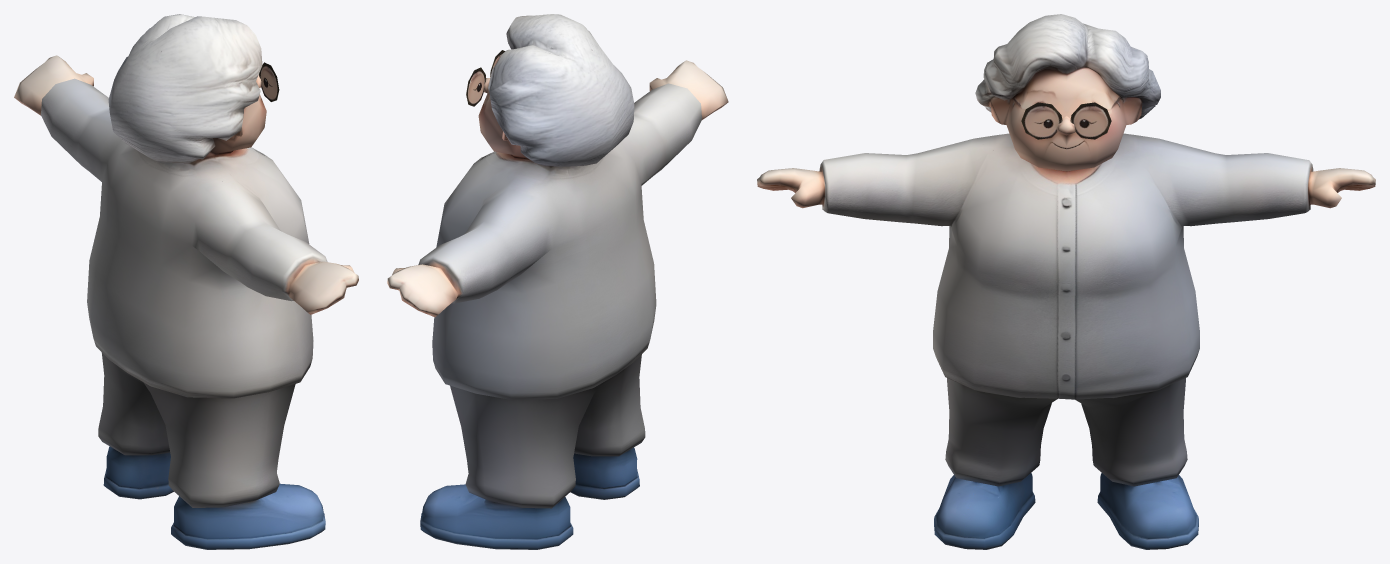
3 views of the same model, side by side, from view 1: azimuth 30°, elevation 25°; view 2: azimuth 150°, elevation 25°; view 3: azimuth 270°, elevation 25° (orthographic). The views are drawn at different scales.
Visible parts, largest first — view 1: tripo_node_9dc89776-c23b-435a-8b97-53dbc146b913; view 2: tripo_node_9dc89776-c23b-435a-8b97-53dbc146b913; view 3: tripo_node_9dc89776-c23b-435a-8b97-53dbc146b913.
Part boxes in pixels (x1,y1,x2,y2): tripo_node_9dc89776-c23b-435a-8b97-53dbc146b913: [14, 14, 358, 549]; tripo_node_9dc89776-c23b-435a-8b97-53dbc146b913: [387, 14, 728, 549]; tripo_node_9dc89776-c23b-435a-8b97-53dbc146b913: [757, 14, 1375, 549].
Bounding box in the file's own units: 0.3335 × 0.8794 × 0.9995.
1 material, 1 textured.
